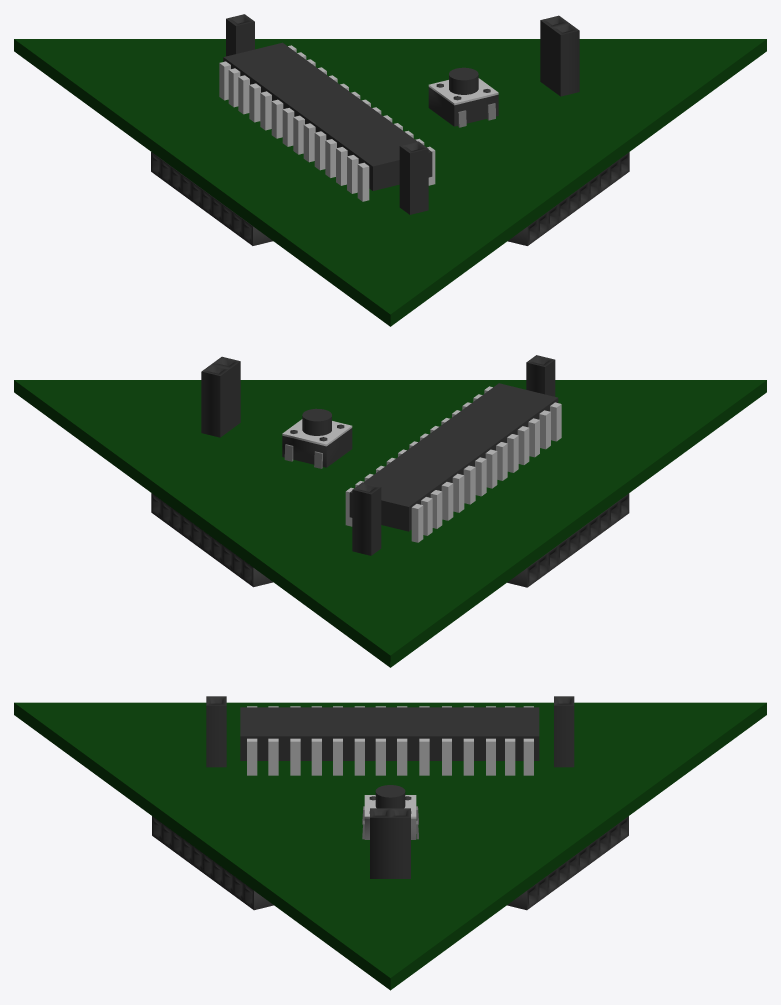
Rendered from LEDlessBoard.obj.
The picture shows the model from 3 angles, top to bottom: view 1: azimuth 30°, elevation 25°; view 2: azimuth 150°, elevation 25°; view 3: azimuth 270°, elevation 25°; orthographic projection.
Visible parts, largest first — view 1: pPyramid1, boardLayout:polySurface1, polySurface10, boardLayout:pCube3, pCube6, pCube9, polySurface8, polySurface9; view 2: pPyramid1, boardLayout:polySurface1, polySurface10, boardLayout:pCube3, pCube6, pCube10, polySurface9, polySurface8; view 3: pPyramid1, boardLayout:polySurface1, boardLayout:pCube3, pCube9, pCube10, polySurface8, polySurface9, polySurface10.
Boxes of the visible parts, left/top/right/bottom form: pPyramid1: left=14, top=39, right=766, bottom=326; boardLayout:polySurface1: left=219, top=42, right=435, bottom=201; polySurface10: left=428, top=67, right=498, bottom=127; boardLayout:pCube3: left=540, top=15, right=579, bottom=96; pCube6: left=151, top=152, right=272, bottom=245; pCube9: left=508, top=152, right=629, bottom=245; polySurface8: left=399, top=141, right=428, bottom=214; polySurface9: left=226, top=14, right=254, bottom=56; pPyramid1: left=14, top=380, right=766, bottom=667; boardLayout:polySurface1: left=345, top=383, right=561, bottom=542; polySurface10: left=282, top=408, right=352, bottom=468; boardLayout:pCube3: left=201, top=356, right=240, bottom=437; pCube6: left=507, top=493, right=629, bottom=587; pCube10: left=151, top=493, right=272, bottom=587; polySurface9: left=352, top=482, right=381, bottom=555; polySurface8: left=526, top=355, right=555, bottom=396; pPyramid1: left=14, top=702, right=766, bottom=990; boardLayout:polySurface1: left=240, top=706, right=539, bottom=775; boardLayout:pCube3: left=370, top=808, right=410, bottom=878; pCube9: left=152, top=816, right=273, bottom=910; pCube10: left=507, top=816, right=628, bottom=910; polySurface8: left=206, top=696, right=226, bottom=767; polySurface9: left=554, top=696, right=574, bottom=767; polySurface10: left=362, top=785, right=418, bottom=839.
Size of the model in its own units: 3 by 0.4908 by 3.46.
